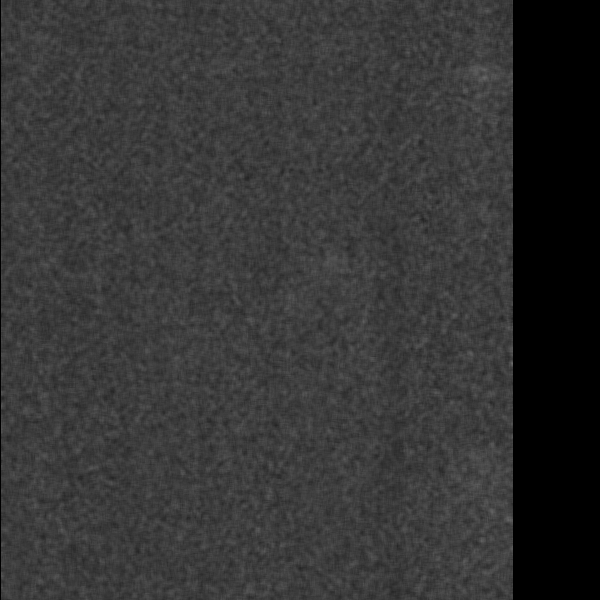spark: (472, 61, 493, 89)
